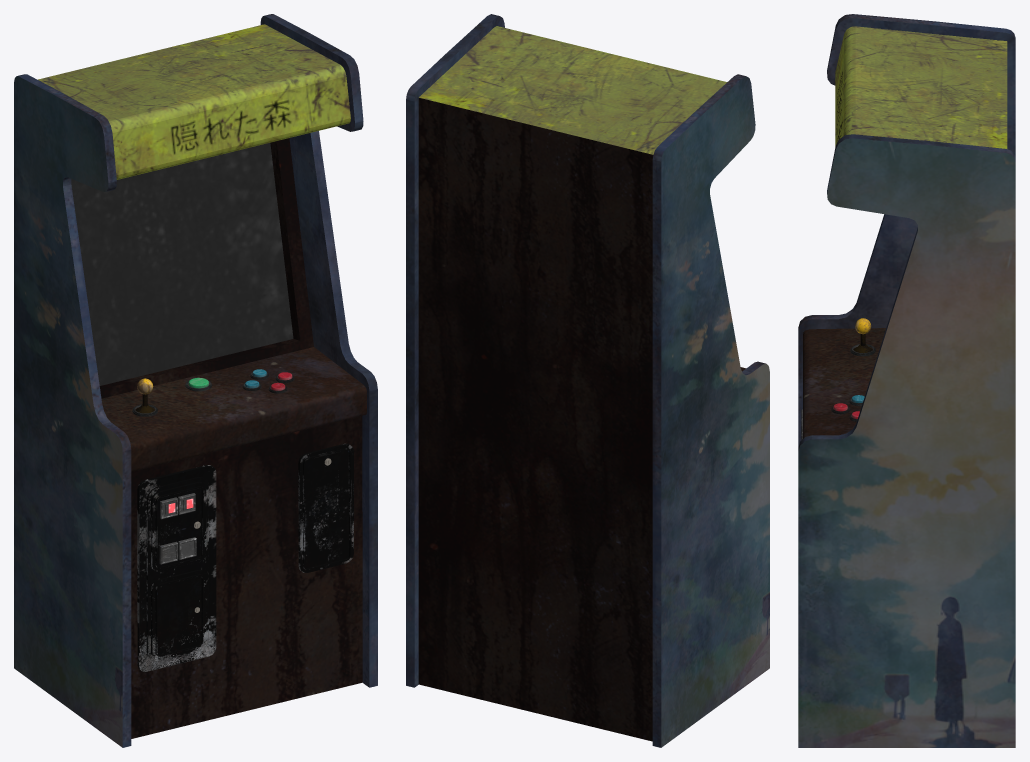
The model's file is arcade_machine.glb.
3 views of the same model, side by side, from view 1: azimuth 30°, elevation 25°; view 2: azimuth 150°, elevation 25°; view 3: azimuth 270°, elevation 25° (orthographic).
Visible parts, largest first — view 1: Arcade; view 2: Arcade; view 3: Arcade.
Part boxes in pixels (x1,y1,x2,y2): Arcade: (14,14,377,747); Arcade: (406,14,769,747); Arcade: (798,14,1015,747).
Bounding box in the file's own units: 2.71 × 6.19 × 2.
Materials: 2 (1 with a texture image).
